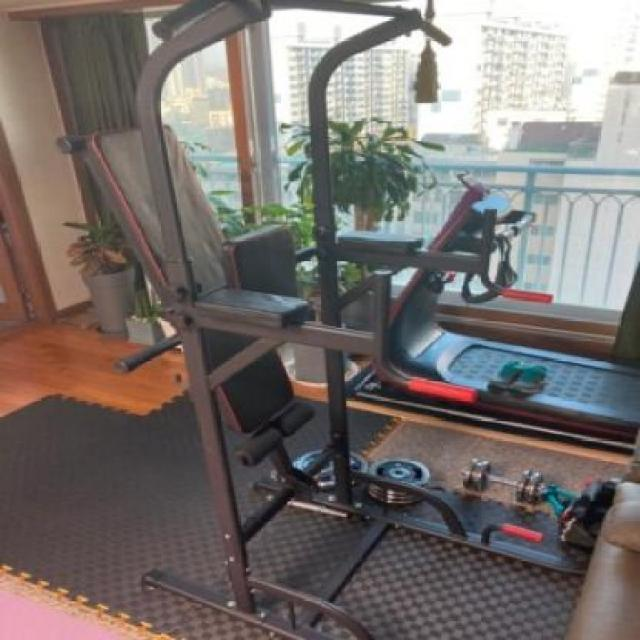chinning dipping: (115, 0, 551, 640)
